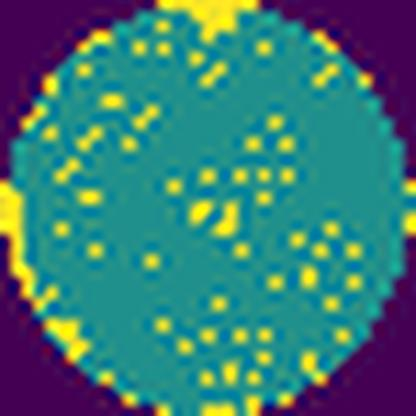Edge-Loc: (0, 177, 91, 370), (156, 0, 264, 44)
